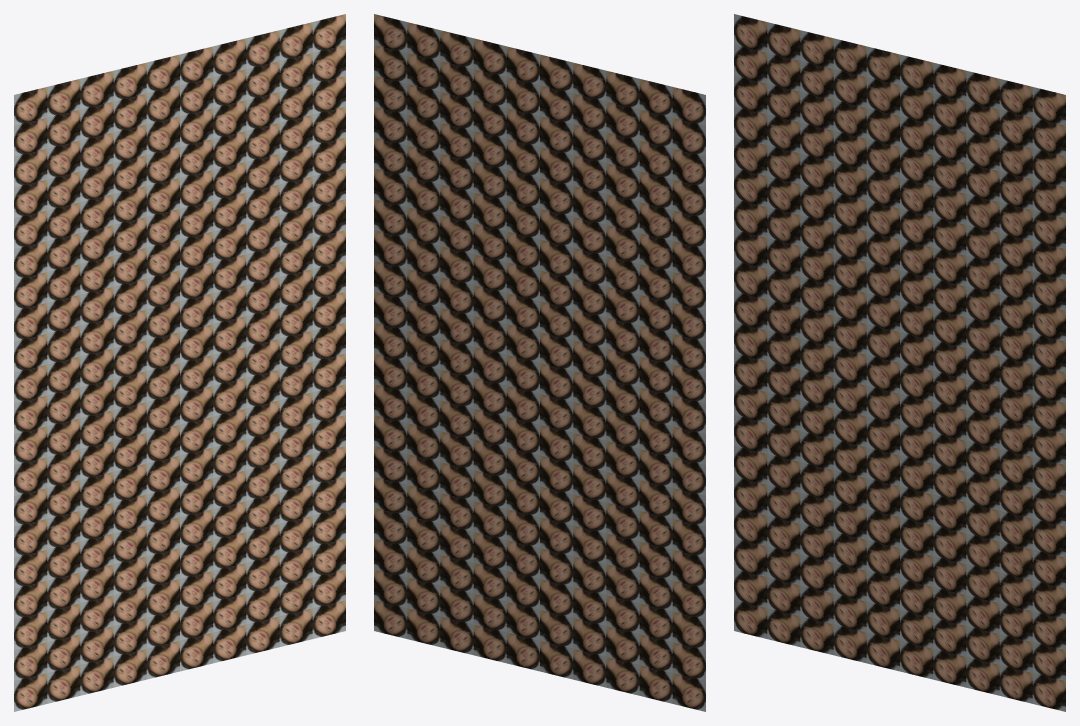
3 renders of one model, left to right at view 1: azimuth 30°, elevation 25°; view 2: azimuth 150°, elevation 25°; view 3: azimuth 330°, elevation 25°, orthographic.
Parts seen in each view (by area): view 1: Plane_1; view 2: Plane_1; view 3: Plane_1.
Part boxes in pixels (left/top/right/bottom): Plane_1: left=14, top=14, right=345, bottom=711; Plane_1: left=374, top=14, right=705, bottom=711; Plane_1: left=734, top=14, right=1065, bottom=711.
Size of the model in its own units: 720 by 1280 by 3.63e-13.
1 material, 1 textured.
